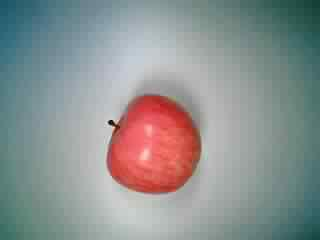apple: (100, 91, 204, 195)
